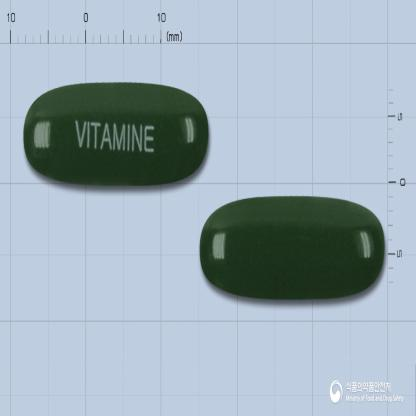pill: (199, 193, 385, 302), (22, 79, 209, 187)
